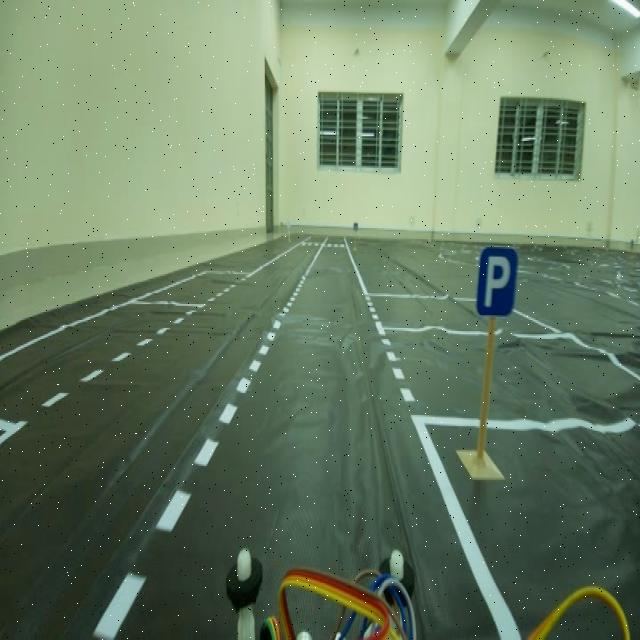parking: (472, 241, 520, 328)
